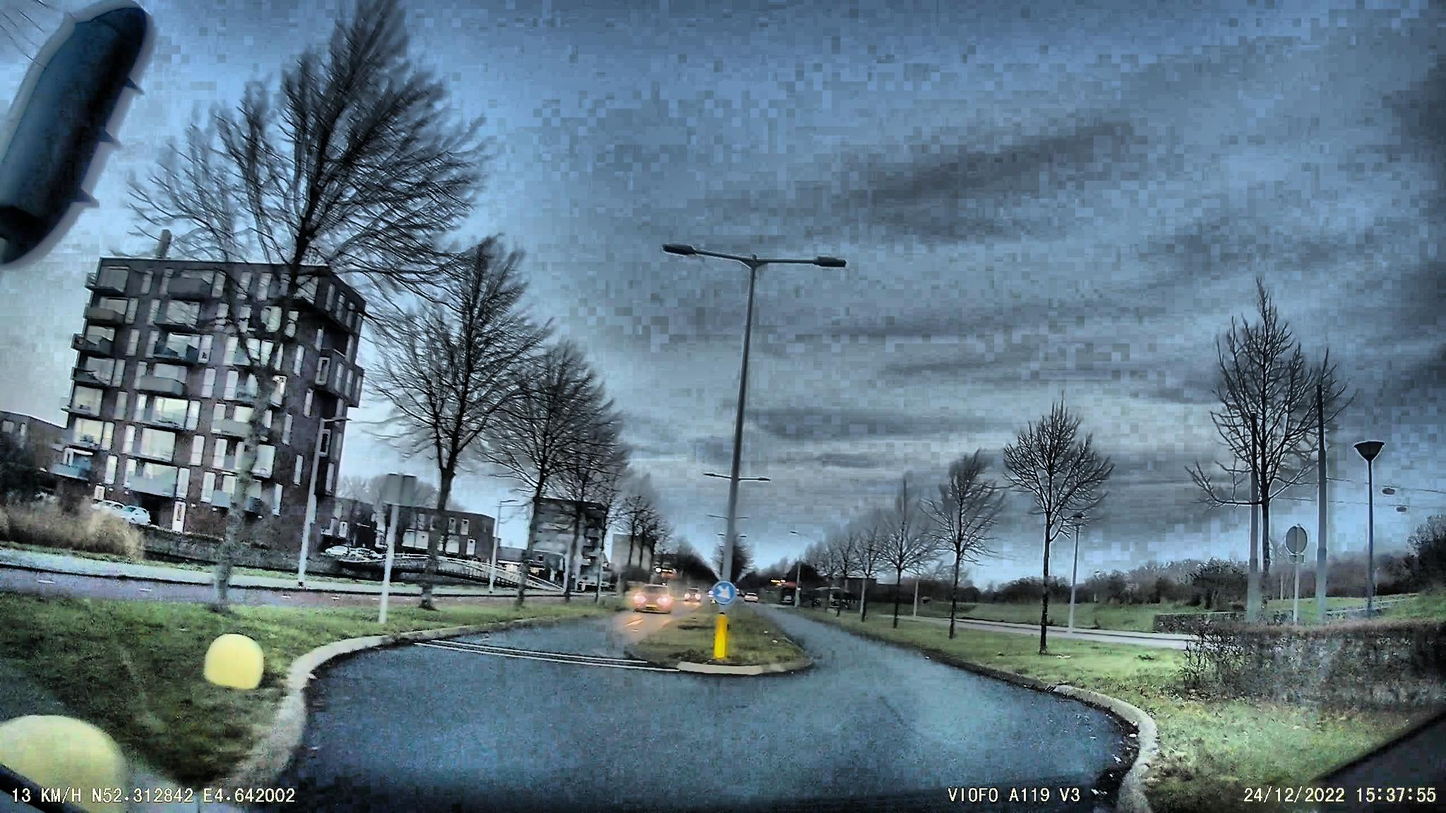Roads: (282, 611, 1149, 813)
